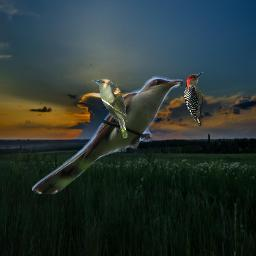Cuckoo: (32, 76, 183, 194), (91, 78, 129, 141)
Woodpecker: (183, 72, 207, 126)
